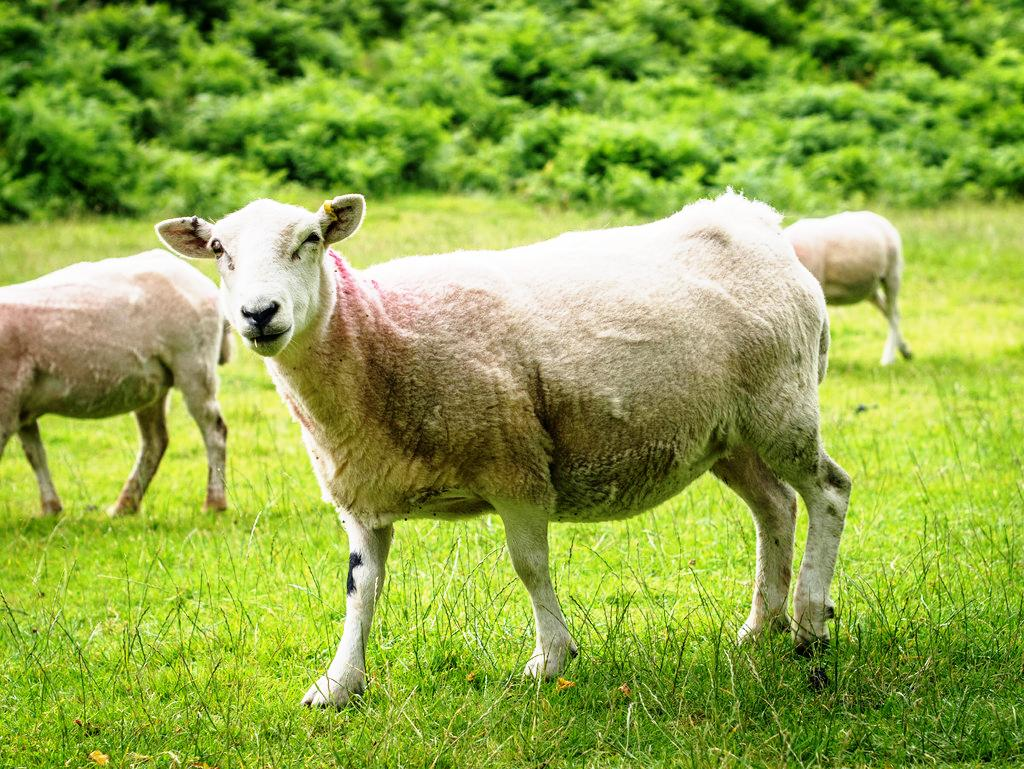Sheep: (152, 184, 853, 708), (0, 252, 234, 516), (782, 209, 912, 364)
